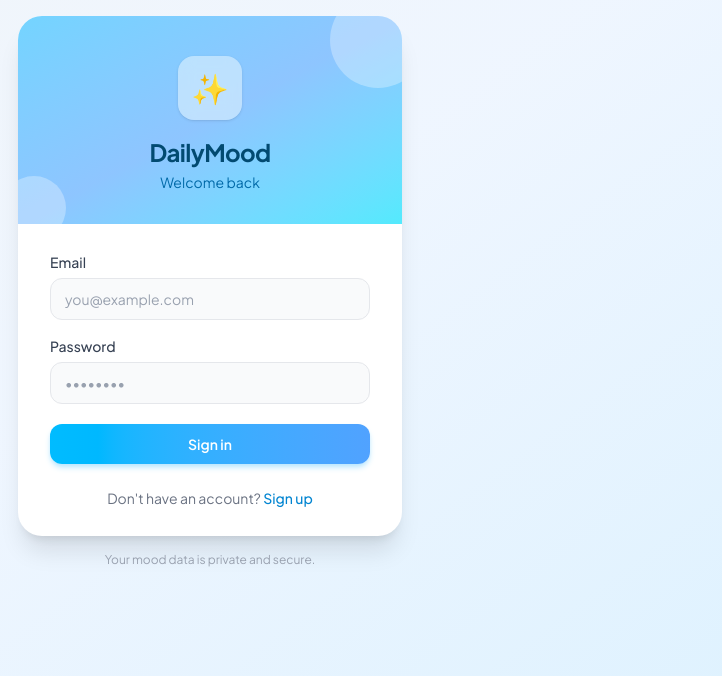
Test: LoginPage (integration) › disables the submit button while the request is in flight
Type "a@b.com" into the field labelled "Email" at [210, 299], box [50, 278, 370, 320]
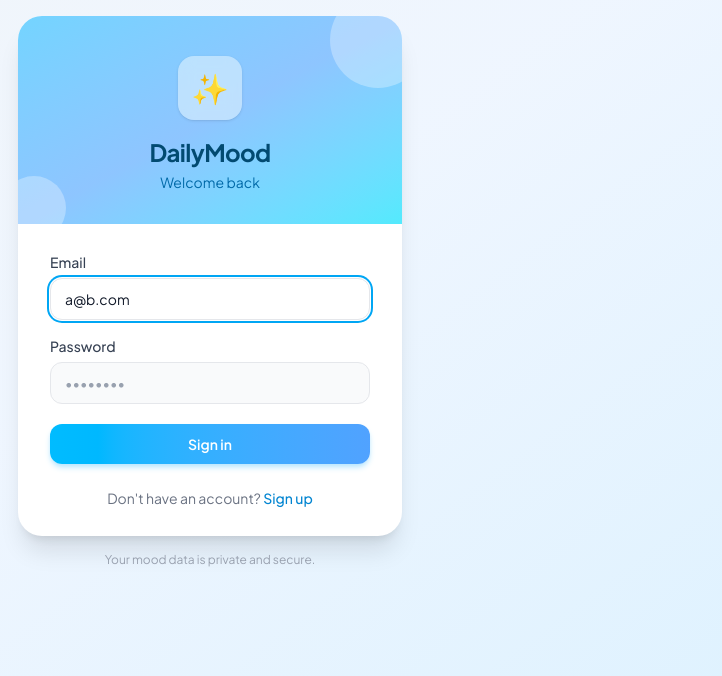
Type "pass123" into the password field labelled "Password" at [210, 383], box [50, 362, 370, 404]
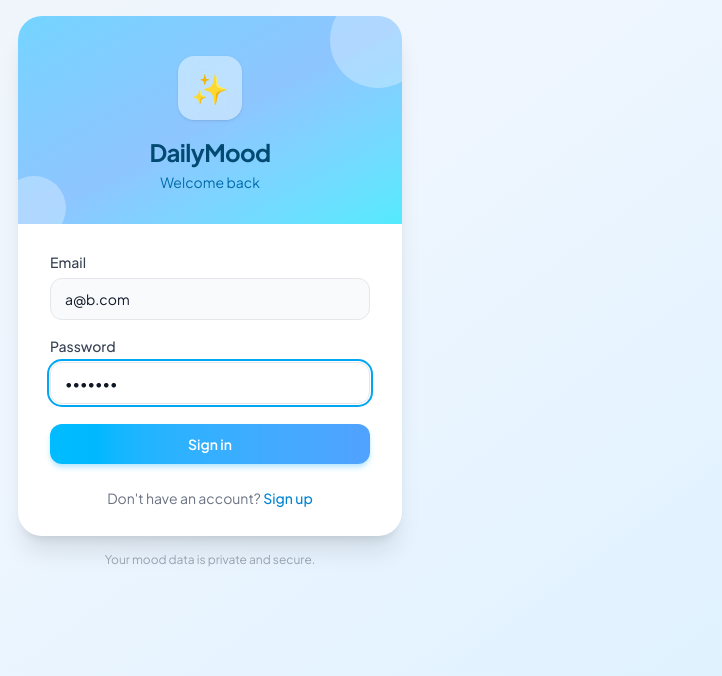
Click the button "Sign in" at [210, 444], box [50, 424, 370, 464]
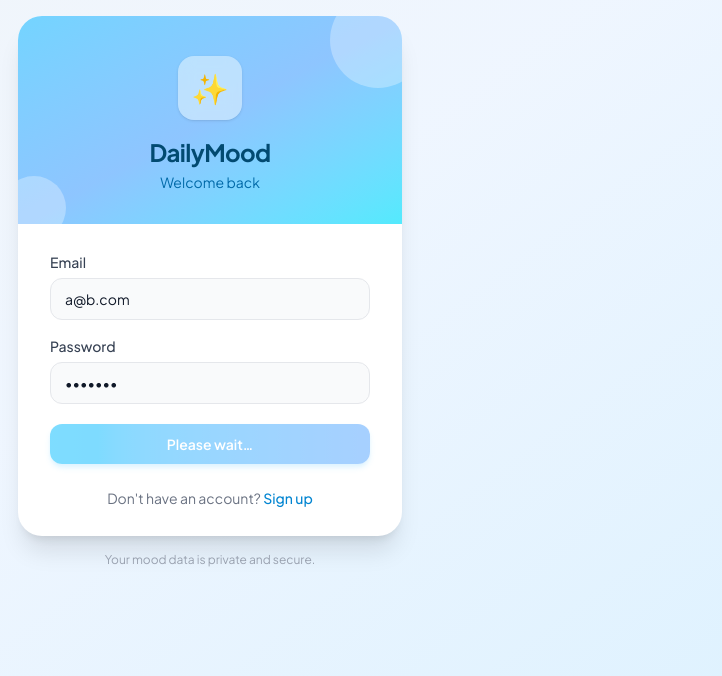
Result: the button "Please wait…" is disabled at [50, 424, 370, 464]
